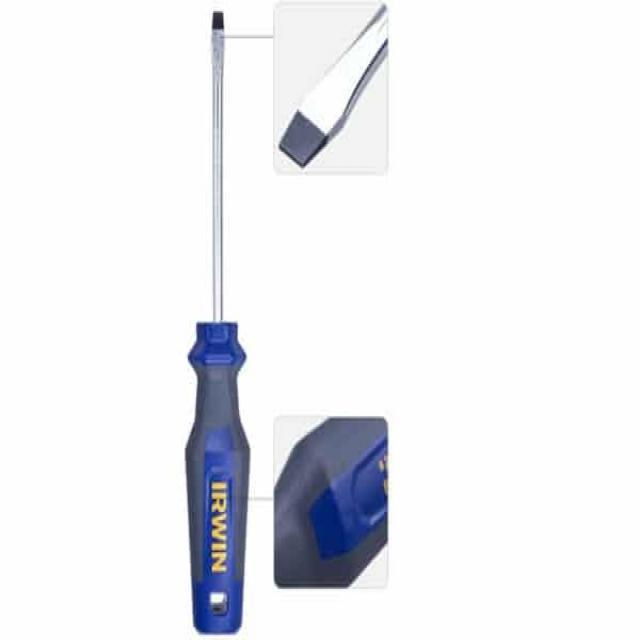screwdriver: (181, 1, 252, 636)
